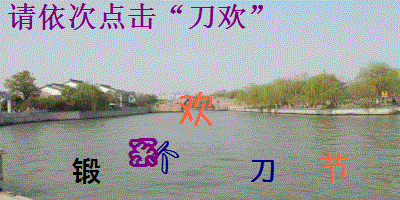text: (177, 91, 216, 129), (125, 136, 159, 168), (318, 152, 350, 185), (71, 155, 103, 187), (152, 140, 179, 175), (248, 156, 275, 185)
